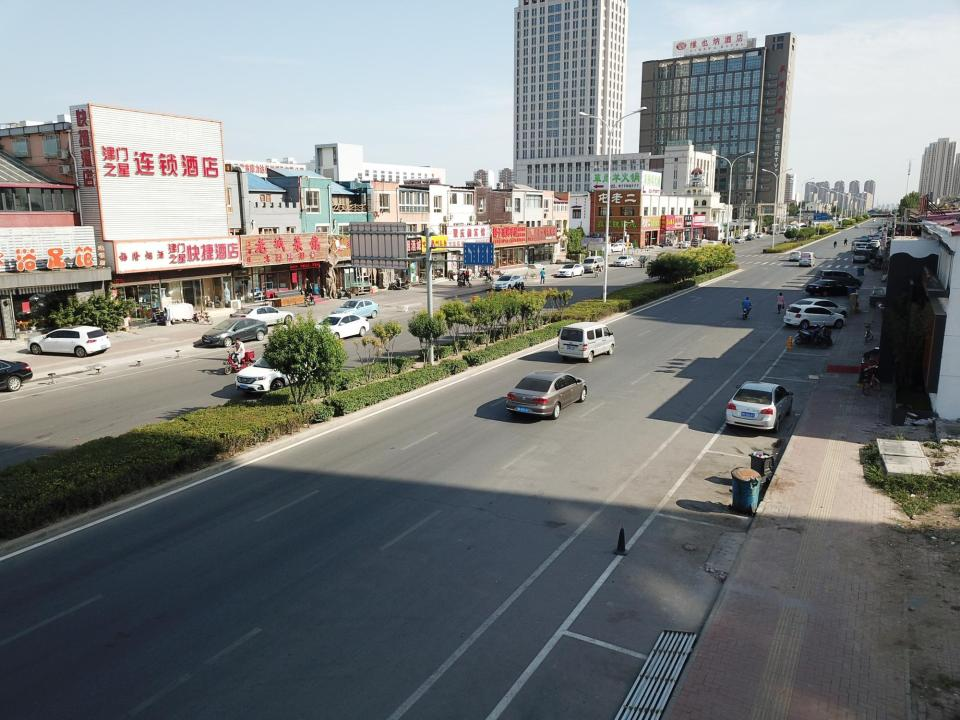car: (232, 349, 336, 392), (496, 371, 588, 419), (725, 378, 792, 431), (22, 326, 113, 357), (199, 318, 272, 344), (310, 313, 376, 340), (783, 305, 849, 330), (231, 305, 297, 326), (331, 297, 382, 320), (788, 300, 851, 318), (818, 268, 861, 289), (805, 277, 851, 296), (491, 274, 524, 290), (557, 264, 584, 278), (850, 241, 872, 252), (613, 255, 635, 266), (799, 254, 815, 267), (608, 242, 628, 252), (853, 248, 869, 260), (855, 245, 872, 255), (790, 249, 802, 261), (723, 237, 735, 245), (679, 240, 692, 247), (705, 240, 718, 246), (765, 229, 778, 235), (871, 236, 882, 243), (874, 233, 882, 241), (869, 241, 878, 248), (736, 237, 746, 243), (860, 234, 868, 241), (746, 234, 754, 241), (750, 233, 757, 240), (756, 232, 763, 238), (781, 227, 787, 234), (854, 224, 860, 228)
van: (556, 322, 615, 362), (581, 256, 606, 271), (691, 238, 702, 247)
